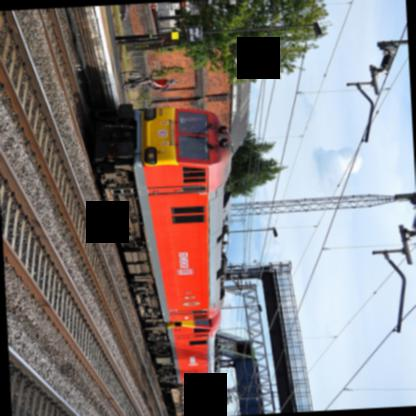backpack: (150, 84, 168, 90)
